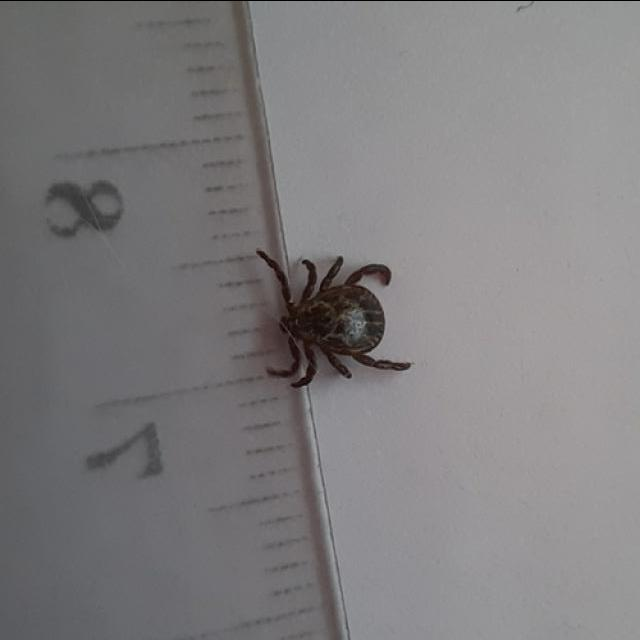Dermacentor Reticulatus-M: (255, 250, 411, 387)
